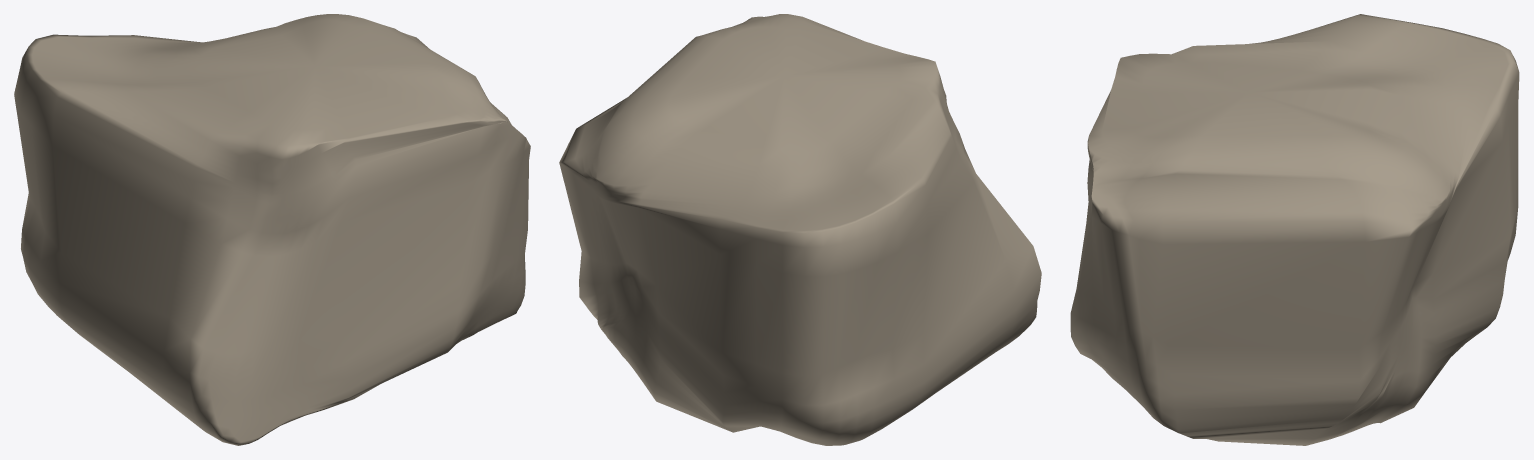
File: landscape.rock.gritstone_11.glb
3 views of the same model, side by side, from view 1: azimuth 30°, elevation 25°; view 2: azimuth 150°, elevation 25°; view 3: azimuth 270°, elevation 25° (orthographic). The views are drawn at different scales.
Visible parts, largest first — view 1: main__stone_a98; view 2: main__stone_a98; view 3: main__stone_a98.
Part boxes in pixels (x1=…): main__stone_a98: x1=14, y1=14, x2=530, y2=445; main__stone_a98: x1=559, y1=14, x2=1041, y2=445; main__stone_a98: x1=1070, y1=14, x2=1519, y2=445.
Size of the model in its own units: 0.7688 by 0.625 by 0.8025.
